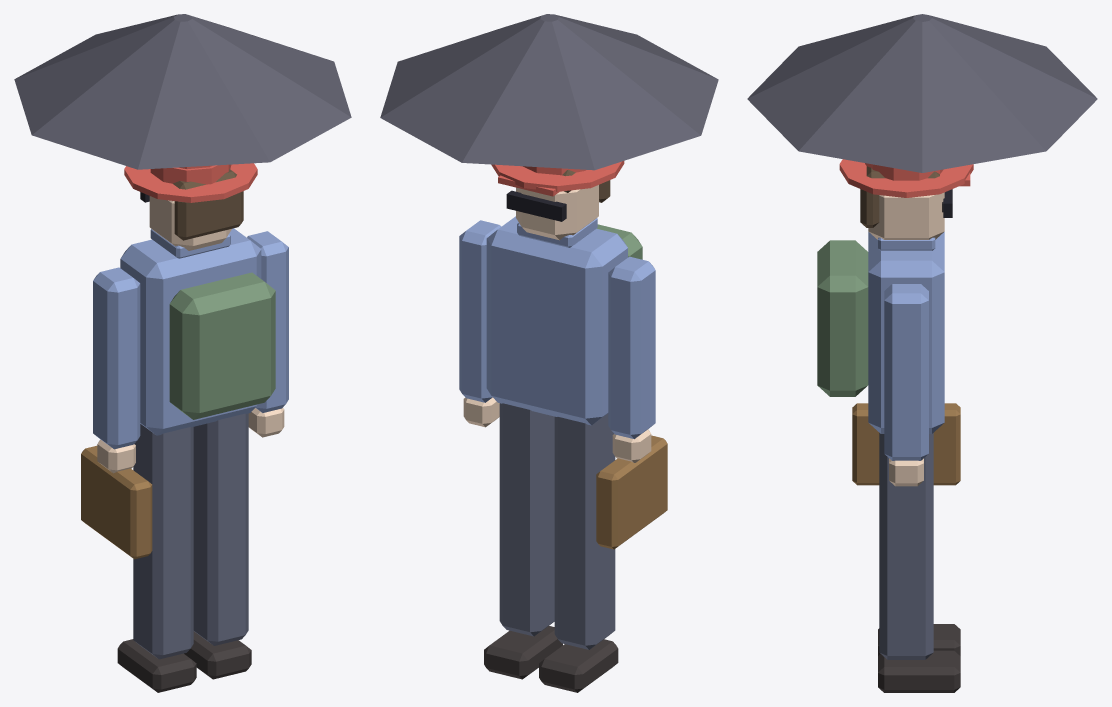
The model's file is person.glb.
The picture shows the model from 3 angles, left to right: view 1: azimuth 30°, elevation 25°; view 2: azimuth 150°, elevation 25°; view 3: azimuth 270°, elevation 25°; orthographic projection.
Visible parts, largest first — view 1: umbrella, bag, legL, legR, torso, armR, case, armL, hatFedoraBrim, shoeR, hairBack, shoeL (+5 smaller); view 2: umbrella, torso, legL, legR, armR, case, armL, shoeR, shoeL, head, hatFedoraBrim, glasses (+4 smaller); view 3: umbrella, legL, armL, bag, torso, case, shoeL, head, hatFedoraBrim, handL, shoeR, hairBack (+2 smaller).
Part boxes in pixels (bbox=[...]): umbrella: bbox=[14, 14, 351, 169]; bag: bbox=[169, 272, 275, 419]; legL: bbox=[193, 413, 248, 645]; legR: bbox=[133, 424, 193, 659]; torso: bbox=[120, 228, 261, 435]; armR: bbox=[93, 267, 140, 449]; case: bbox=[81, 445, 152, 559]; armL: bbox=[247, 231, 288, 412]; hatFedoraBrim: bbox=[124, 163, 257, 202]; shoeR: bbox=[117, 639, 196, 692]; hairBack: bbox=[174, 191, 243, 240]; shoeL: bbox=[184, 631, 251, 679]; umbrella: bbox=[380, 14, 718, 170]; torso: bbox=[486, 216, 627, 425]; legL: bbox=[499, 403, 554, 636]; legR: bbox=[554, 413, 615, 649]; armR: bbox=[608, 256, 655, 439]; case: bbox=[596, 435, 667, 549]; armL: bbox=[459, 220, 501, 402]; shoeR: bbox=[539, 639, 618, 692]; shoeL: bbox=[484, 626, 562, 679]; head: bbox=[516, 185, 598, 240]; hatFedoraBrim: bbox=[491, 161, 624, 191]; glasses: bbox=[506, 190, 566, 221]; umbrella: bbox=[747, 14, 1097, 172]; legL: bbox=[879, 433, 933, 659]; armL: bbox=[884, 284, 928, 460]; bag: bbox=[817, 240, 868, 396]; torso: bbox=[868, 232, 944, 433]; case: bbox=[852, 403, 960, 485]; shoeL: bbox=[878, 650, 960, 692]; head: bbox=[868, 192, 944, 239]; hatFedoraBrim: bbox=[839, 159, 973, 197]; handL: bbox=[889, 458, 923, 486]; shoeR: bbox=[878, 624, 960, 655]; hairBack: bbox=[860, 189, 879, 227].
Size of the model in its own units: 1.1 by 2.26 by 1.1.
